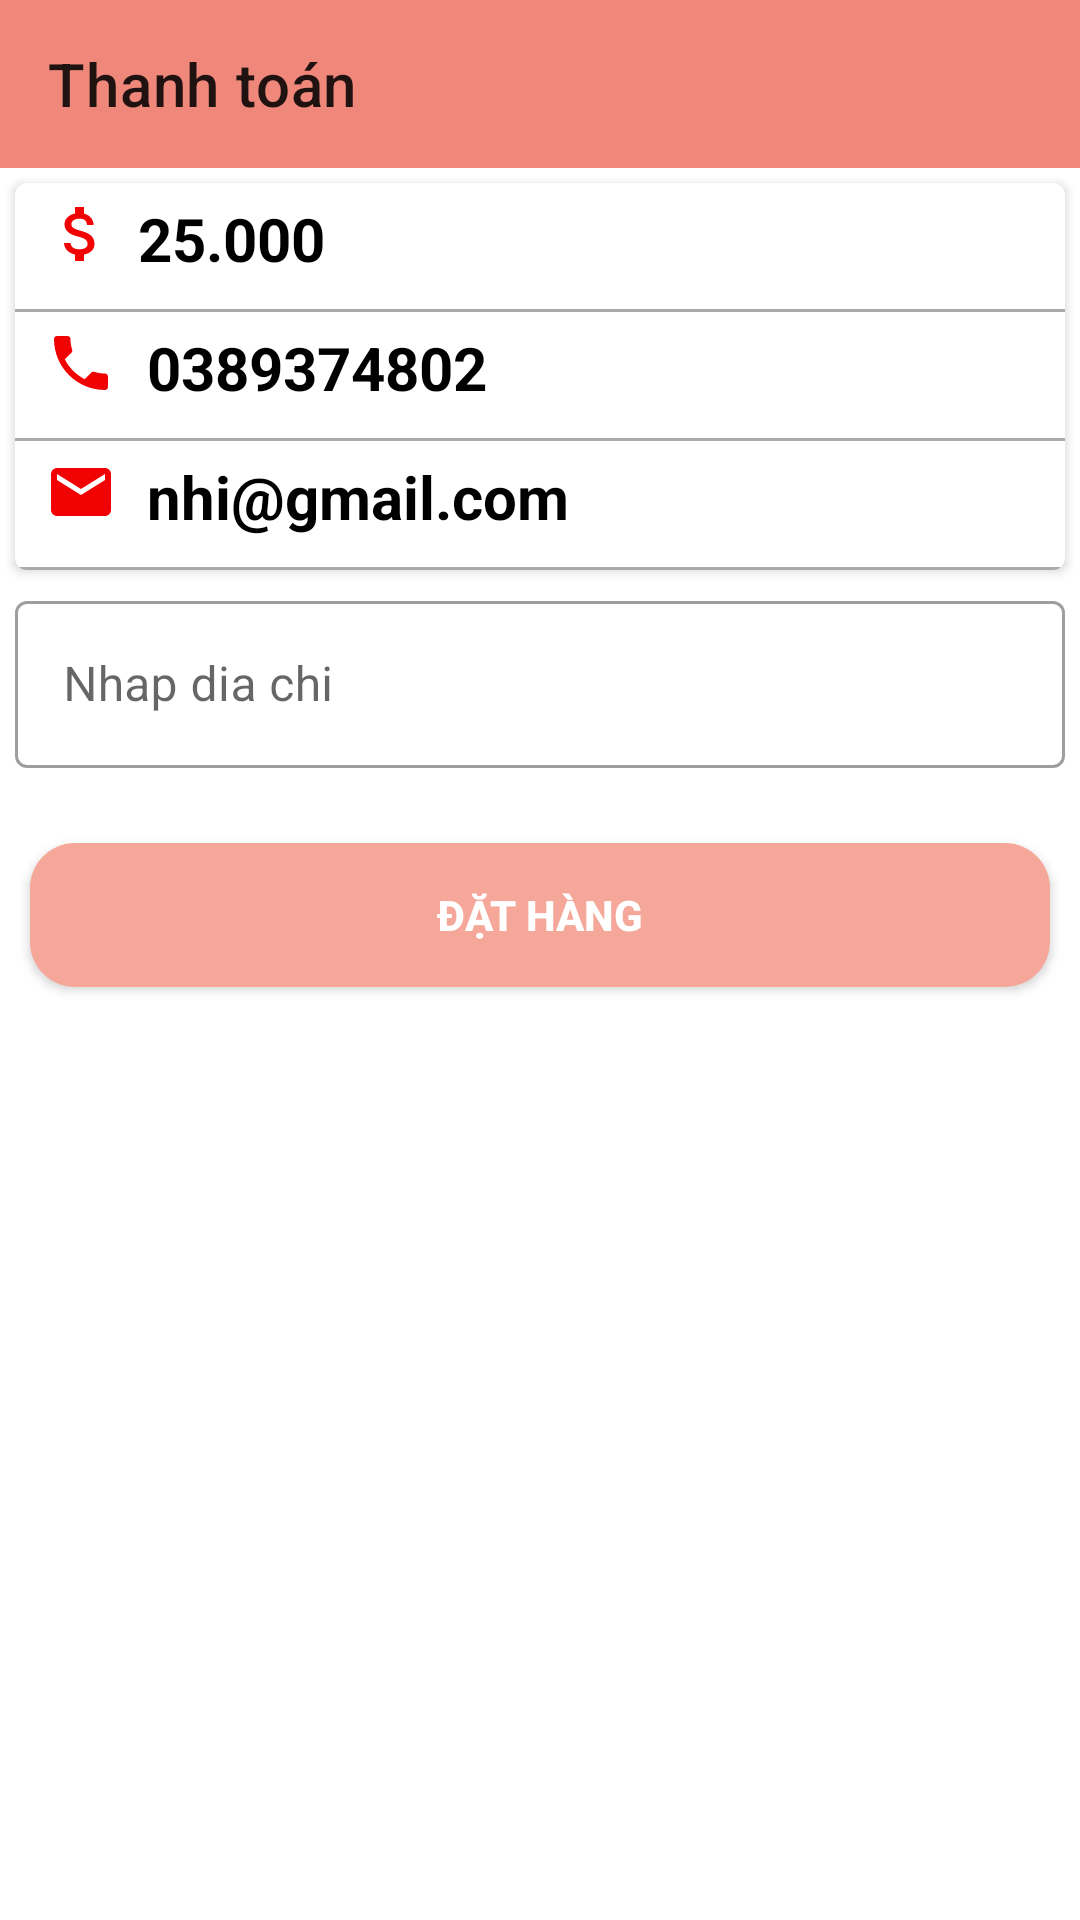

Screen size 1080px x 1920px. Icon name, then its box in pixels as [x1,y1,x2,y2]:
attach money: [64,207,95,261]
email: [51,468,111,516]
phone: [54,336,108,390]
